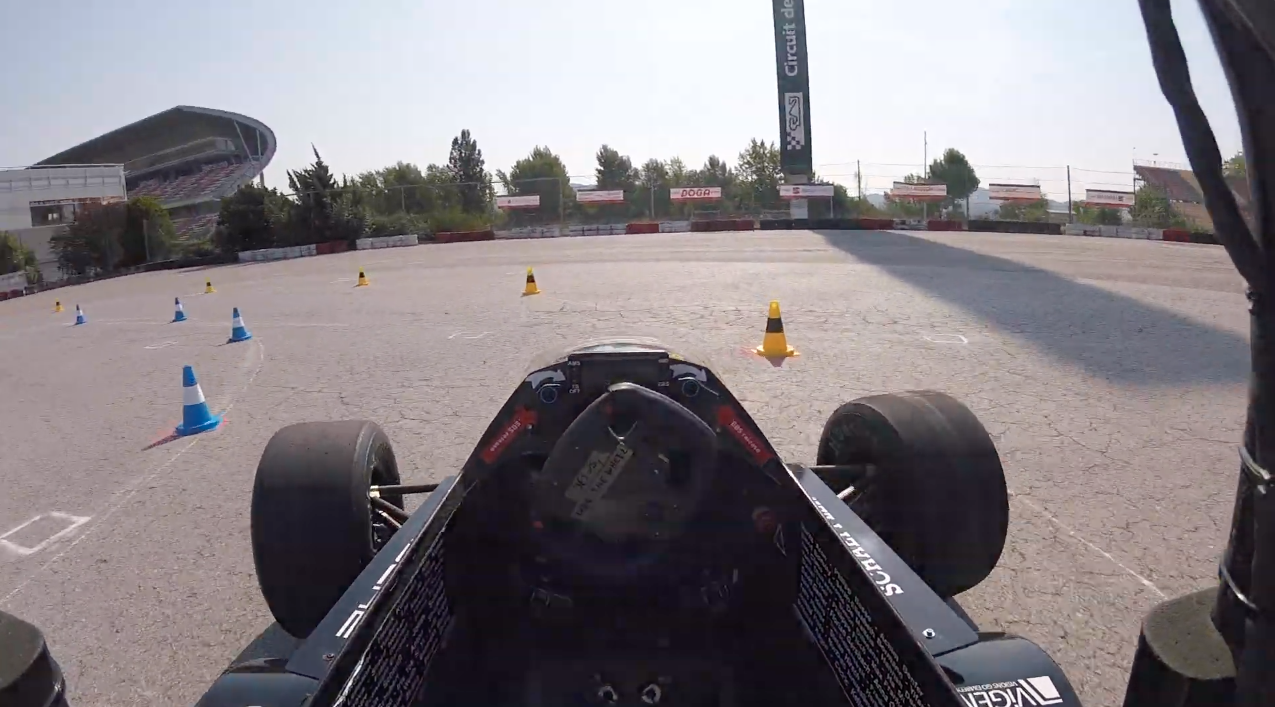lcone: (165, 362, 222, 437), (226, 304, 255, 342), (168, 292, 190, 323)
rcone: (750, 298, 803, 362), (518, 263, 543, 297), (355, 265, 372, 288)
